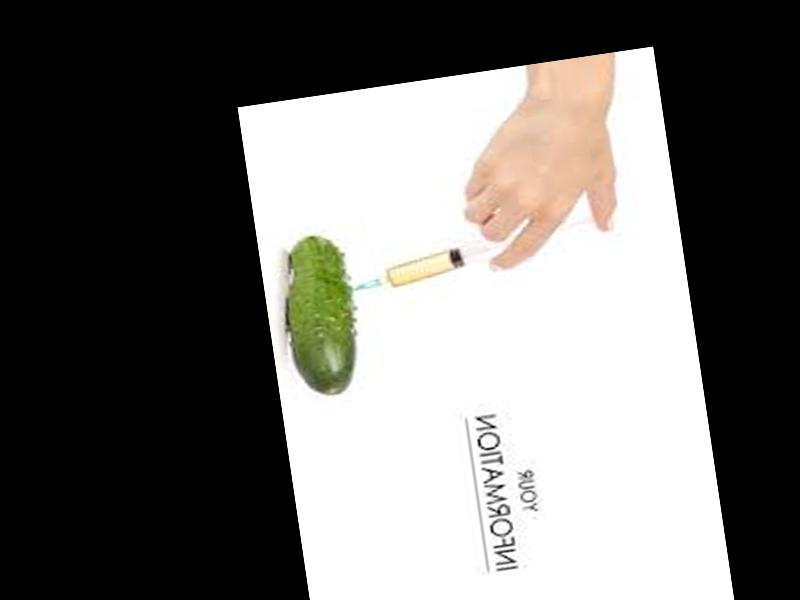Cucumber: (278, 229, 366, 399)
